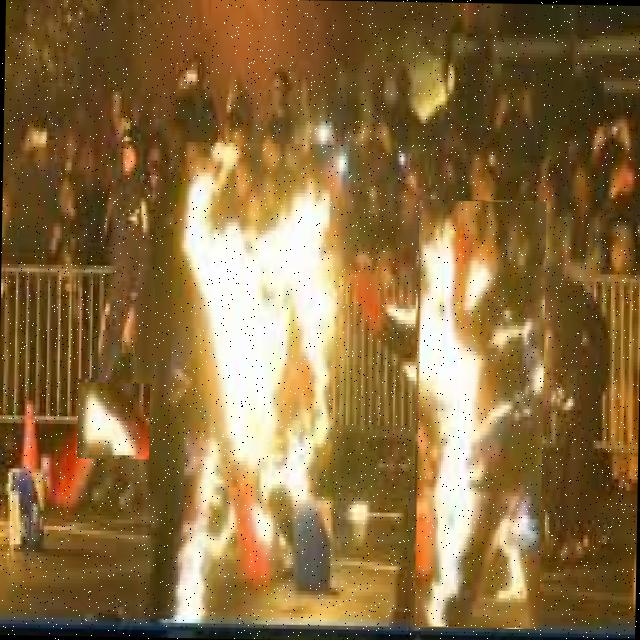fire: (167, 144, 349, 620), (412, 200, 546, 628), (76, 382, 150, 459)
